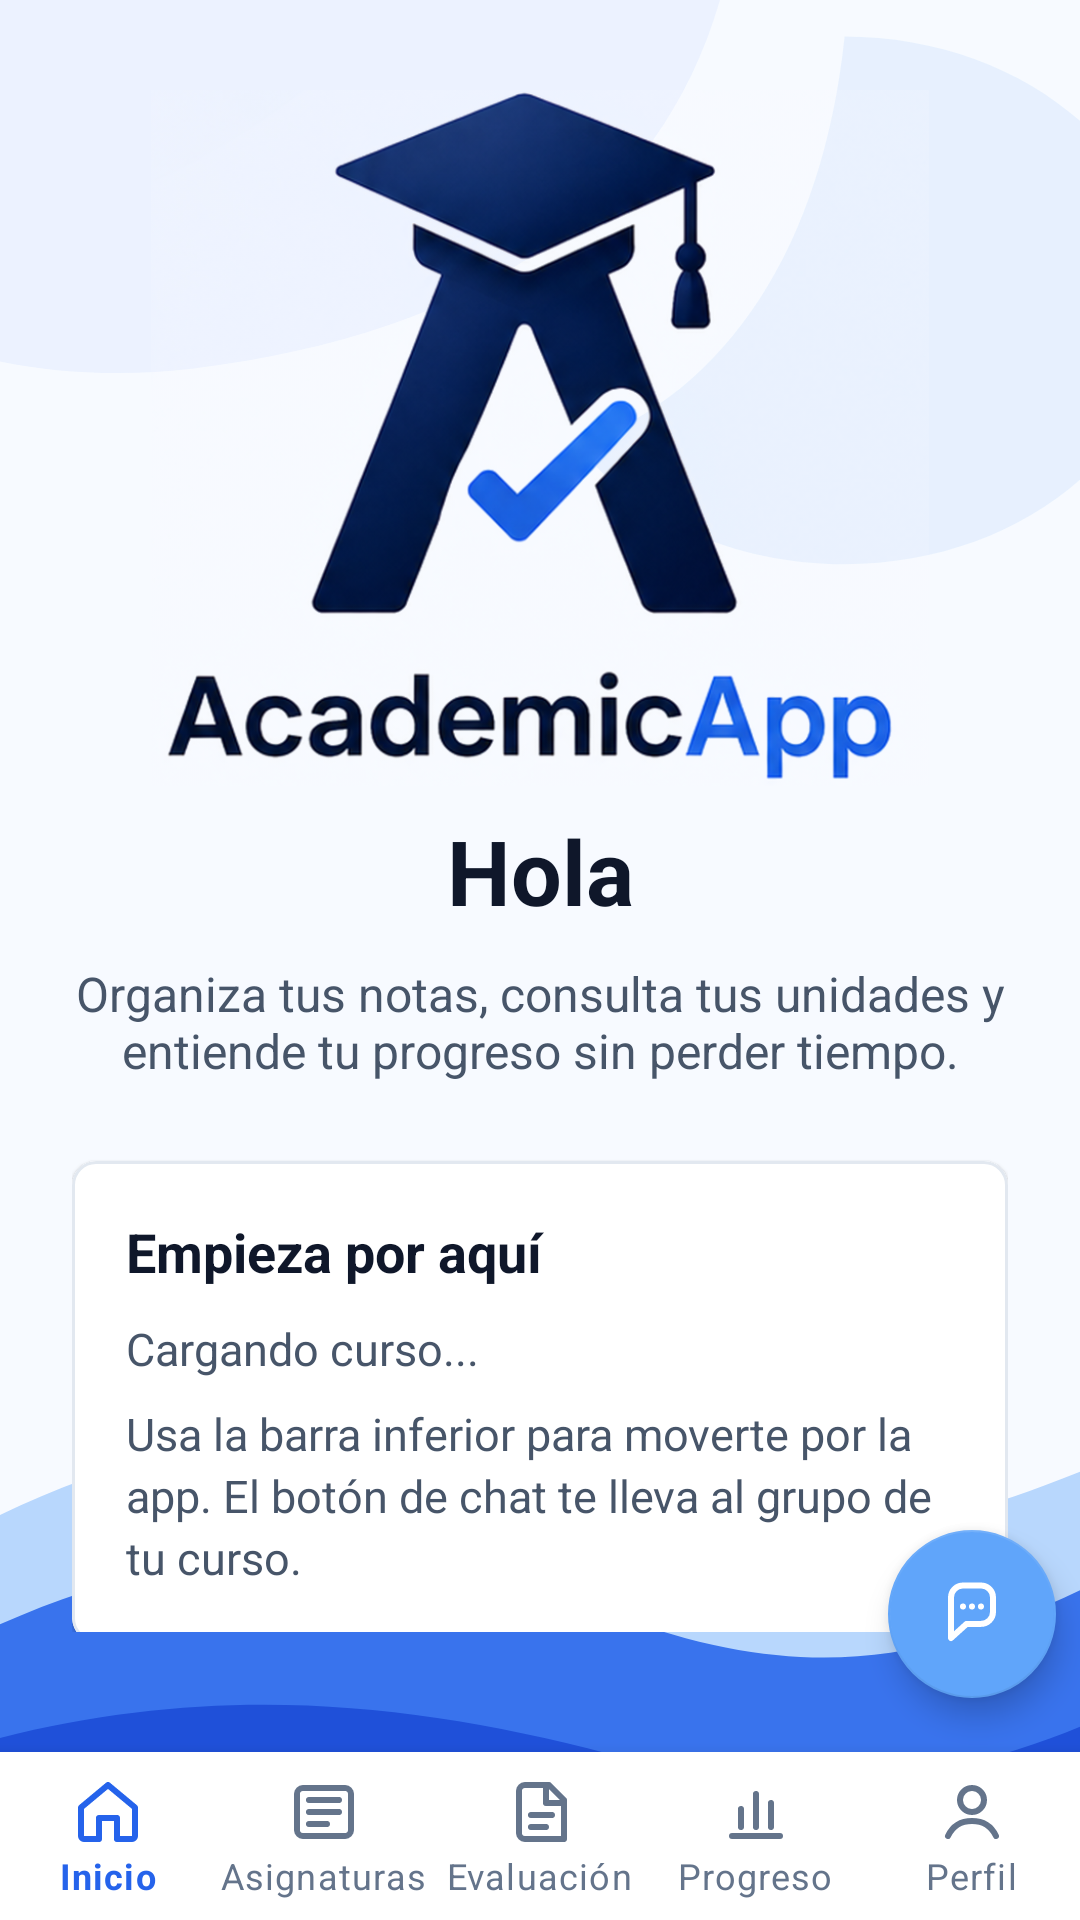

Icon click points for this 1080w x 1920h phone screenshot, format (x=x, y=y):
Abrir chat del curso: (x=972, y=1614)
